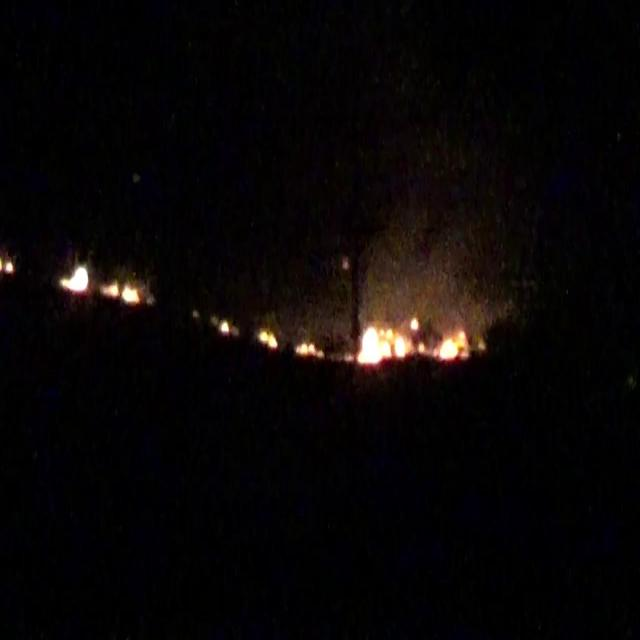Fire: (345, 318, 469, 367), (60, 268, 142, 304), (257, 327, 277, 350), (296, 342, 320, 358), (221, 316, 231, 334)
